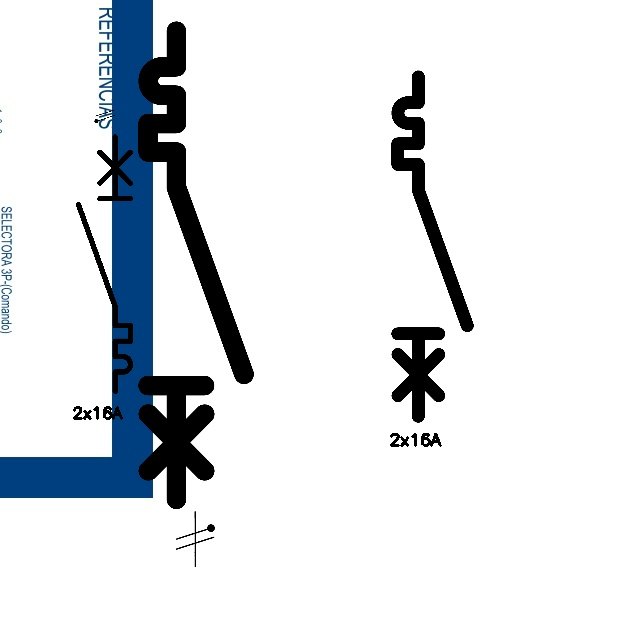interruptor_termomagnetico: (136, 19, 256, 511), (389, 68, 476, 425), (72, 130, 137, 397)
